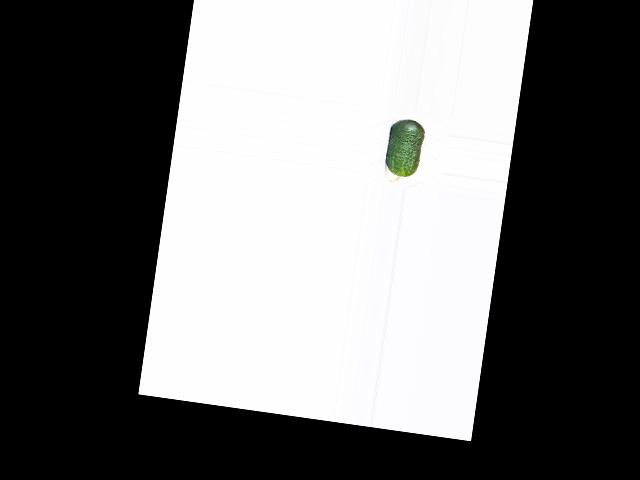cucumber: (383, 117, 425, 185)
